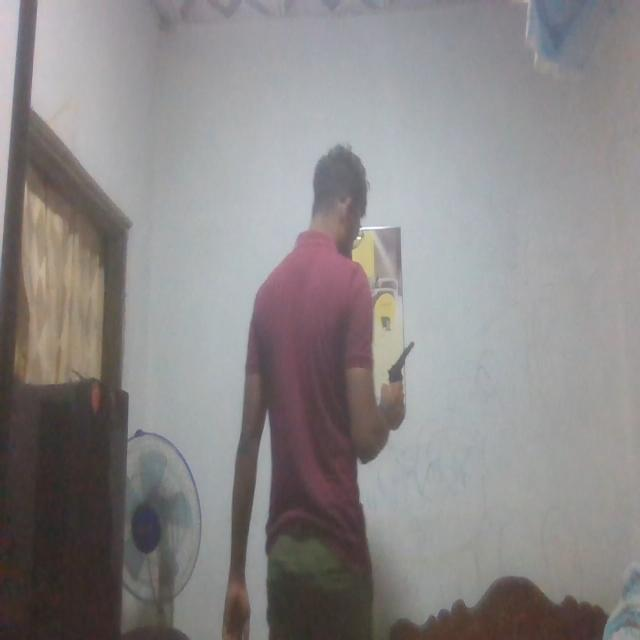Gun_Holder: (379, 343, 429, 418)
Person: (220, 138, 404, 640)
